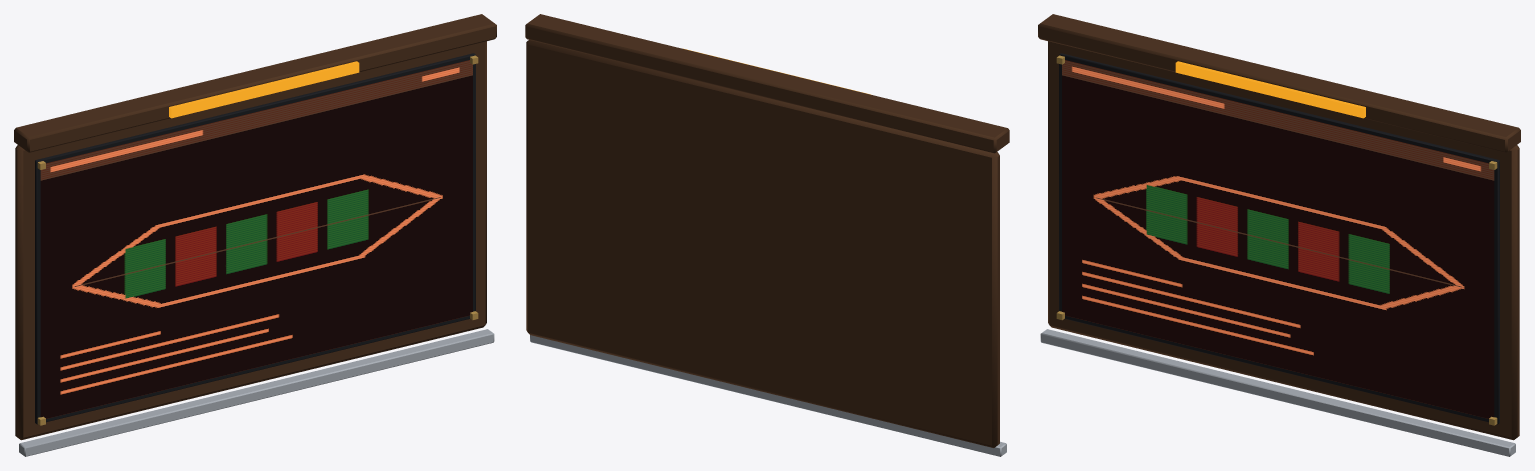
The model's file is display_schematics_wall.glb.
3 views of the same model, side by side, from view 1: azimuth 30°, elevation 25°; view 2: azimuth 150°, elevation 25°; view 3: azimuth 330°, elevation 25° (orthographic).
Parts seen in each view (by area): view 1: display_schematics_wall; view 2: display_schematics_wall; view 3: display_schematics_wall.
Part boxes in pixels (x1=…): display_schematics_wall: x1=14, y1=14, x2=496, y2=456; display_schematics_wall: x1=525, y1=14, x2=1009, y2=456; display_schematics_wall: x1=1038, y1=14, x2=1520, y2=456.
Size of the model in its own units: 2.5 by 1.63 by 0.16.
Materials: 6 (1 with a texture image).
